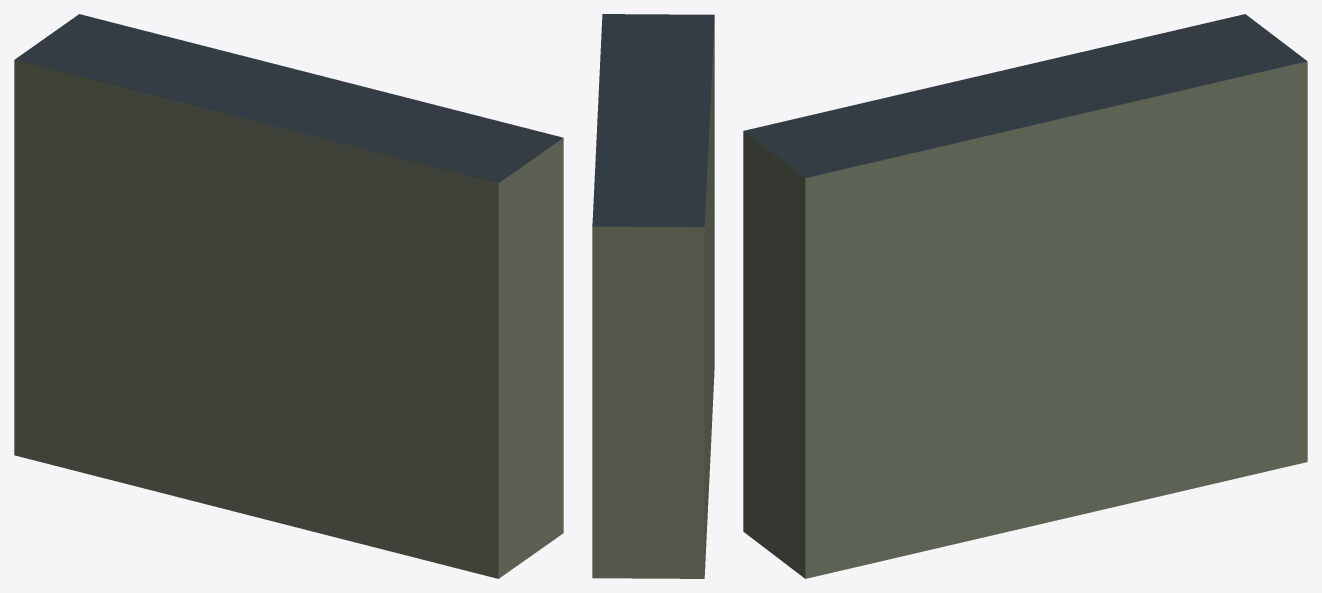
File: nyc-1034267-0.glb
The picture shows the model from 3 angles, left to right: view 1: azimuth 30°, elevation 25°; view 2: azimuth 150°, elevation 25°; view 3: azimuth 270°, elevation 25°; orthographic projection. The views are drawn at different scales.
Visible parts, largest first — view 1: nyc-1034267-0; view 2: nyc-1034267-0; view 3: nyc-1034267-0.
Boxes of the visible parts, x1,y1,x2,y2 form: nyc-1034267-0: (14,14,563,578); nyc-1034267-0: (592,14,714,578); nyc-1034267-0: (743,14,1307,578).
Size of the model in its own units: 20.48 by 23.31 by 29.74.
